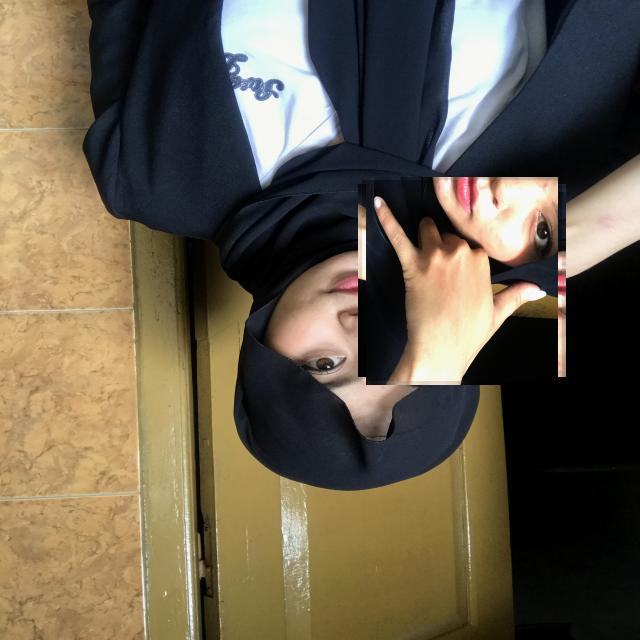telpon: (362, 180, 562, 381)
